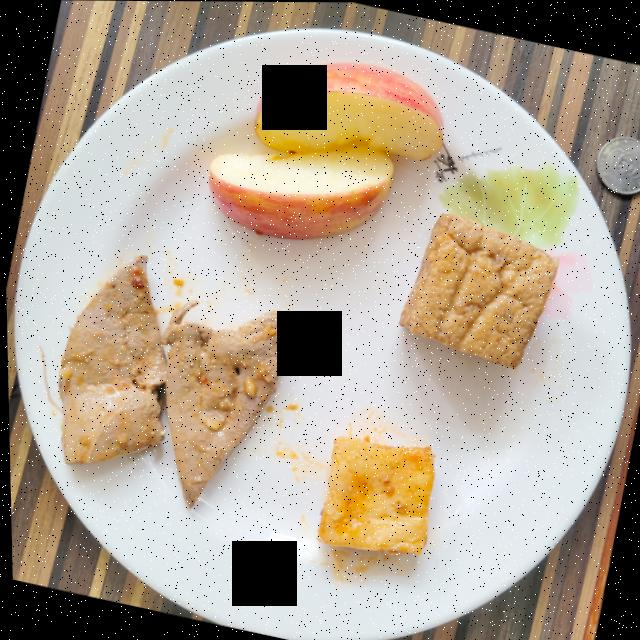apple -sliced-: (207, 61, 442, 238)
coin: (595, 136, 640, 193)
creamy tofu: (314, 435, 432, 554)
egg tofu: (397, 213, 558, 367)
pig liver: (56, 255, 287, 507)
